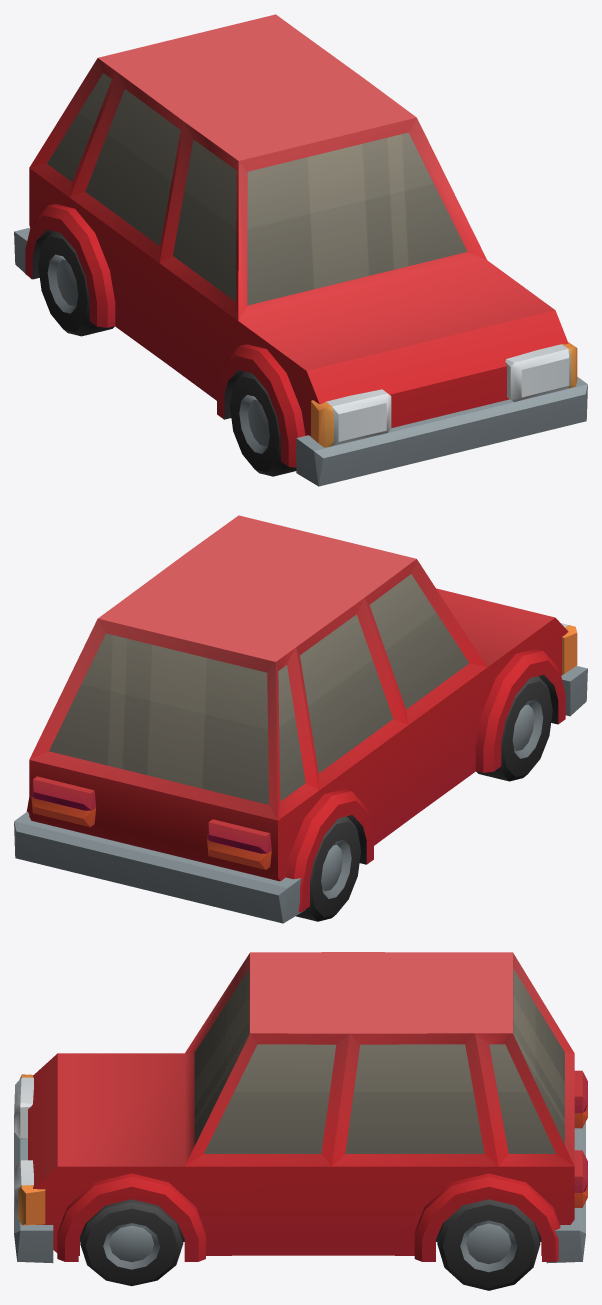
Rendered from CarPanctured.gltf.
3 views of the same model, one above another, from view 1: azimuth 30°, elevation 25°; view 2: azimuth 150°, elevation 25°; view 3: azimuth 270°, elevation 25° (orthographic). The views are drawn at different scales.
Visible parts, largest first — view 1: car_hatchback, car_hatchback_wheel_rear_right, car_hatchback_wheel_front_right; view 2: car_hatchback, car_hatchback_wheel_front_right, car_hatchback_wheel_rear_right; view 3: car_hatchback, car_hatchback_wheel_rear_left, car_hatchback_wheel_front_left.
Part boxes in pixels (box(x1,y1,x2,y2)): car_hatchback: box(14, 14, 587, 486); car_hatchback_wheel_rear_right: box(38, 231, 114, 336); car_hatchback_wheel_front_right: box(230, 371, 296, 476); car_hatchback: box(14, 515, 587, 923); car_hatchback_wheel_front_right: box(476, 676, 552, 781); car_hatchback_wheel_rear_right: box(296, 816, 360, 921); car_hatchback: box(14, 952, 587, 1263); car_hatchback_wheel_rear_left: box(437, 1199, 540, 1290); car_hatchback_wheel_front_left: box(80, 1199, 183, 1286).
Size of the model in its own units: 0.419 by 0.3688 by 0.8061.
1 material, 1 textured.
